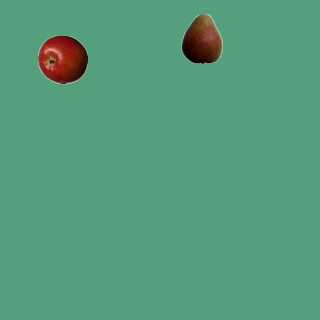Apple Braeburn: (37, 34, 87, 84)
Pear Forelle: (176, 13, 226, 63)
